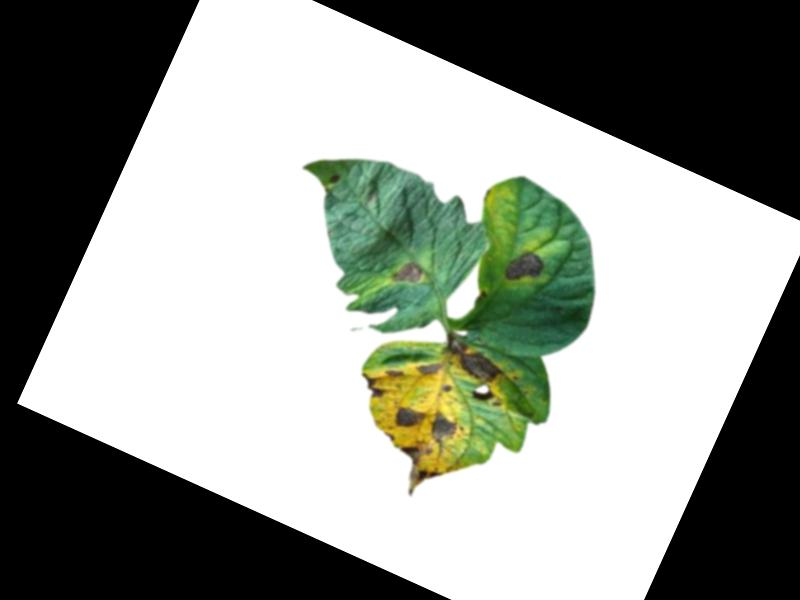Early_blight: (384, 433, 454, 505), (433, 328, 510, 389), (500, 242, 547, 291), (421, 407, 465, 451), (389, 400, 427, 435), (391, 256, 427, 291), (354, 369, 391, 403), (415, 353, 445, 380), (383, 363, 404, 380), (326, 168, 343, 185), (441, 381, 453, 393)
